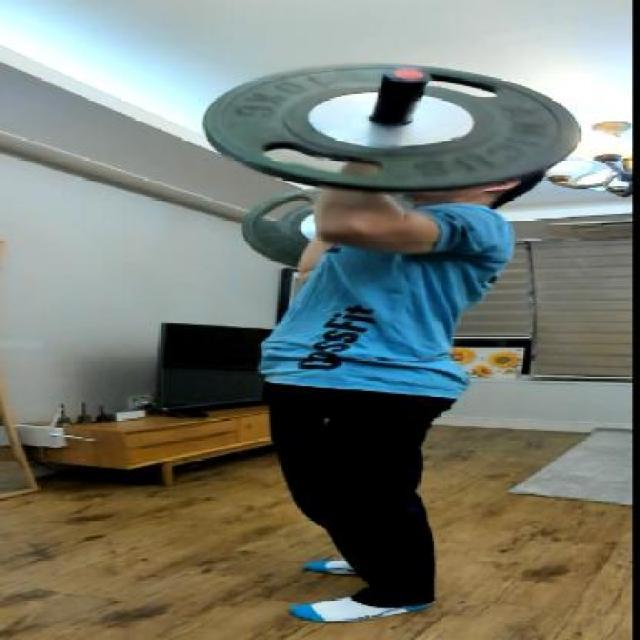Barbell: (378, 62, 444, 88)
